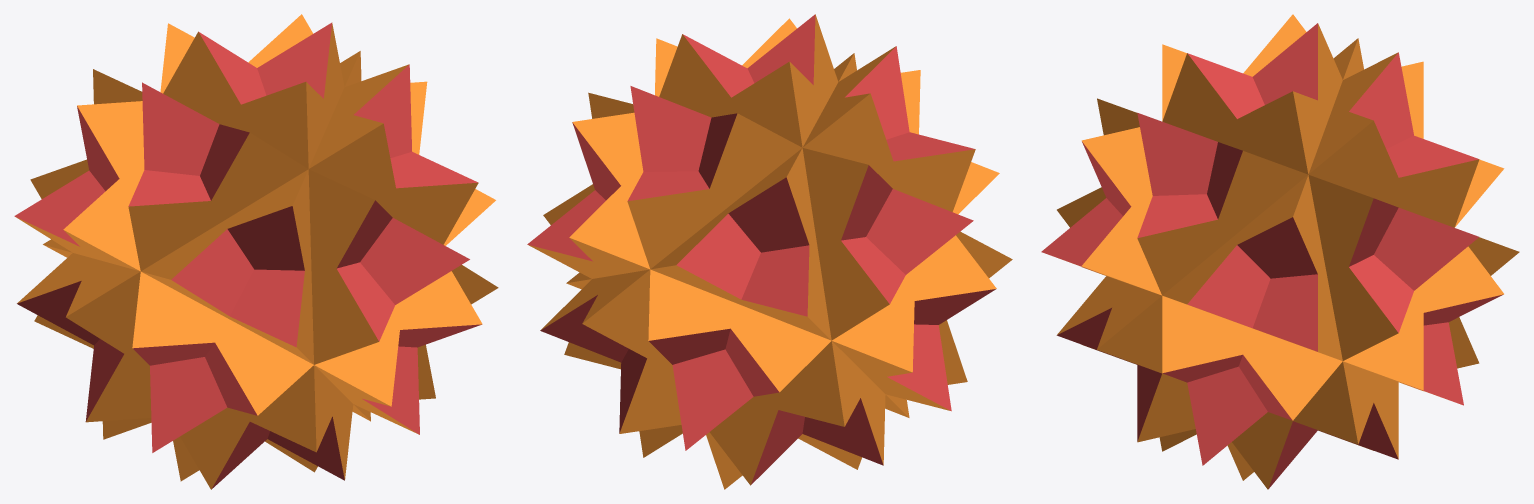
Rendered from great_stellated_truncated_dodecahedron.obj.
3 renders of one model, left to right at view 1: azimuth 30°, elevation 25°; view 2: azimuth 150°, elevation 25°; view 3: azimuth 270°, elevation 25°, orthographic. The views are drawn at different scales.
Parts seen in each view (by area): view 1: Shape_IndexedFaceSet.001, Shape_IndexedFaceSet; view 2: Shape_IndexedFaceSet.001, Shape_IndexedFaceSet; view 3: Shape_IndexedFaceSet.001, Shape_IndexedFaceSet.
Part boxes in pixels (x1,y1,x2,y2): Shape_IndexedFaceSet.001: [16, 14, 498, 489]; Shape_IndexedFaceSet: [14, 22, 481, 489]; Shape_IndexedFaceSet.001: [528, 14, 1012, 489]; Shape_IndexedFaceSet: [527, 14, 995, 484]; Shape_IndexedFaceSet.001: [1057, 14, 1519, 489]; Shape_IndexedFaceSet: [1041, 23, 1503, 488].
Size of the model in its own units: 3.04 by 2.99 by 3.08.
